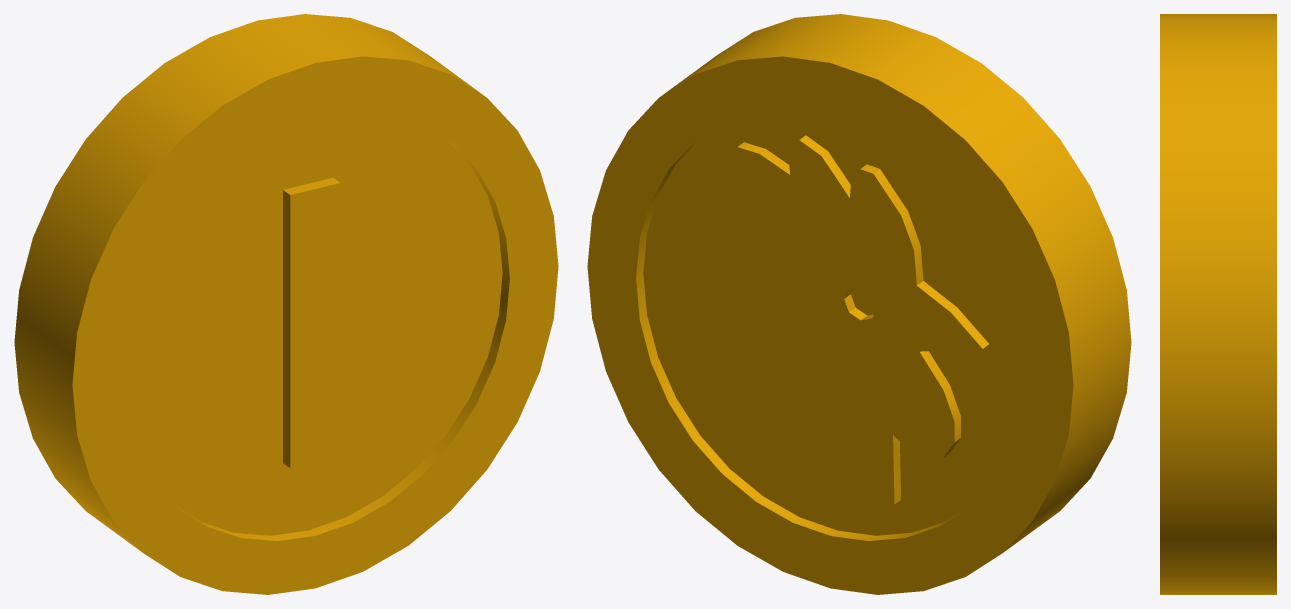
File: Koin.fbx
3 views of the same model, side by side, from view 1: azimuth 30°, elevation 25°; view 2: azimuth 150°, elevation 25°; view 3: azimuth 270°, elevation 25° (orthographic).
Visible parts, largest first — view 1: Coin; view 2: Coin; view 3: Coin.
Part boxes in pixels (bbox=[...]): Coin: bbox=[14, 14, 558, 594]; Coin: bbox=[587, 14, 1131, 594]; Coin: bbox=[1160, 14, 1276, 594].
Size of the model in its own units: 194 by 200 by 40.09.
